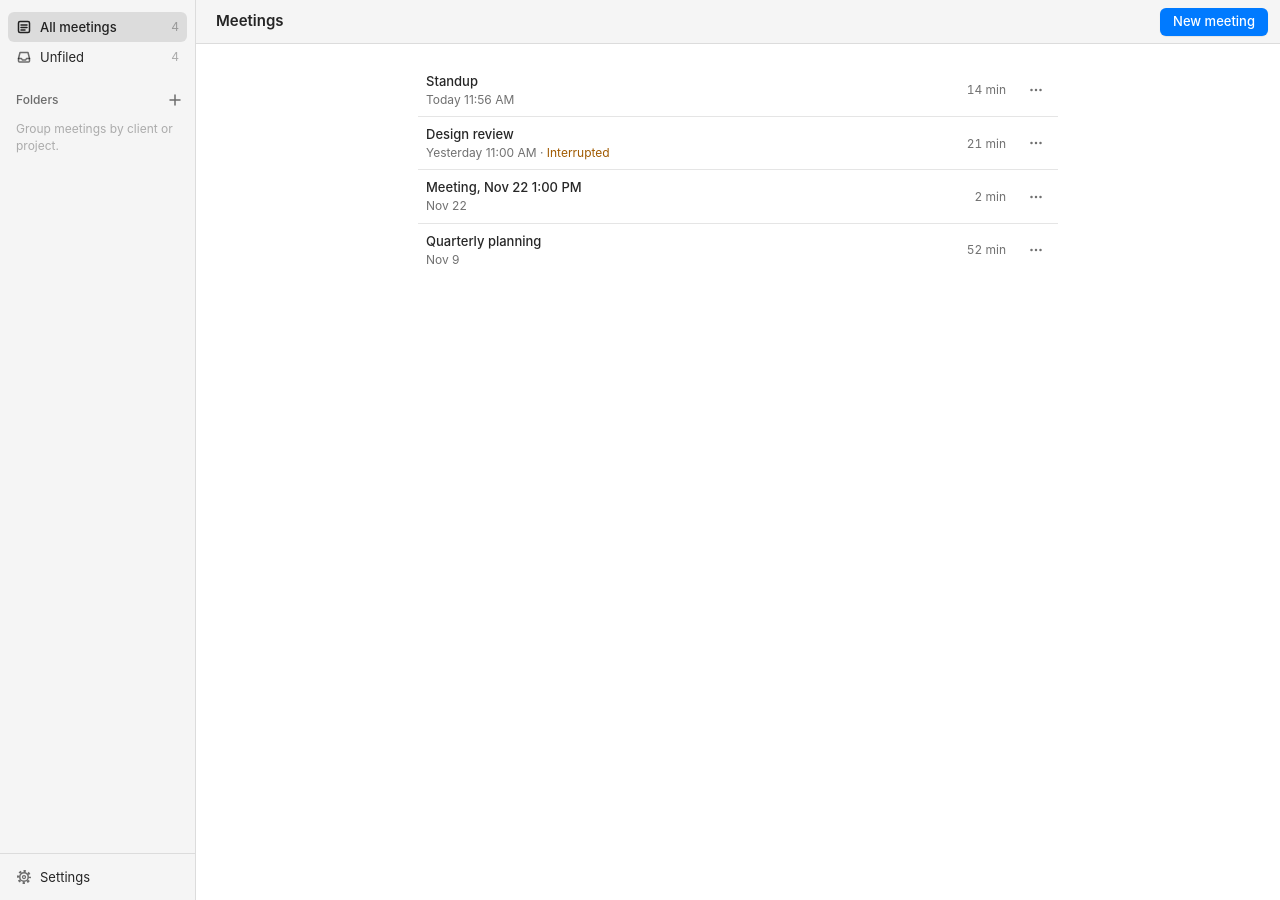
Test case: on the live meeting there is no link to it; elsewhere there is
This screenshot has width=1280, height=900.
Click the button "New meeting": (1214, 22) [1160,8,1268,36]
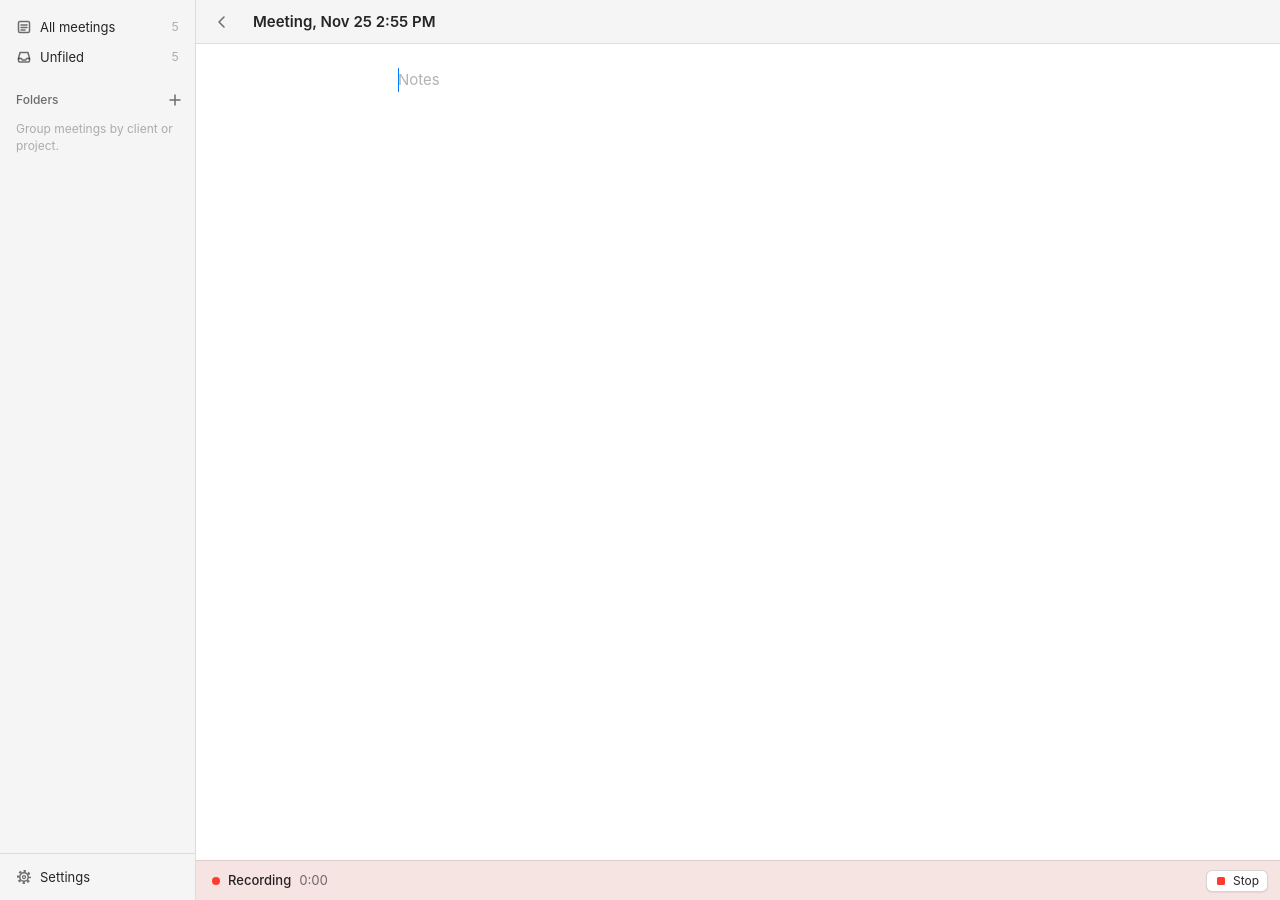
Expected: the button "Open meeting" is not shown
Click the button named "Back": (222, 22) [208,8,236,36]
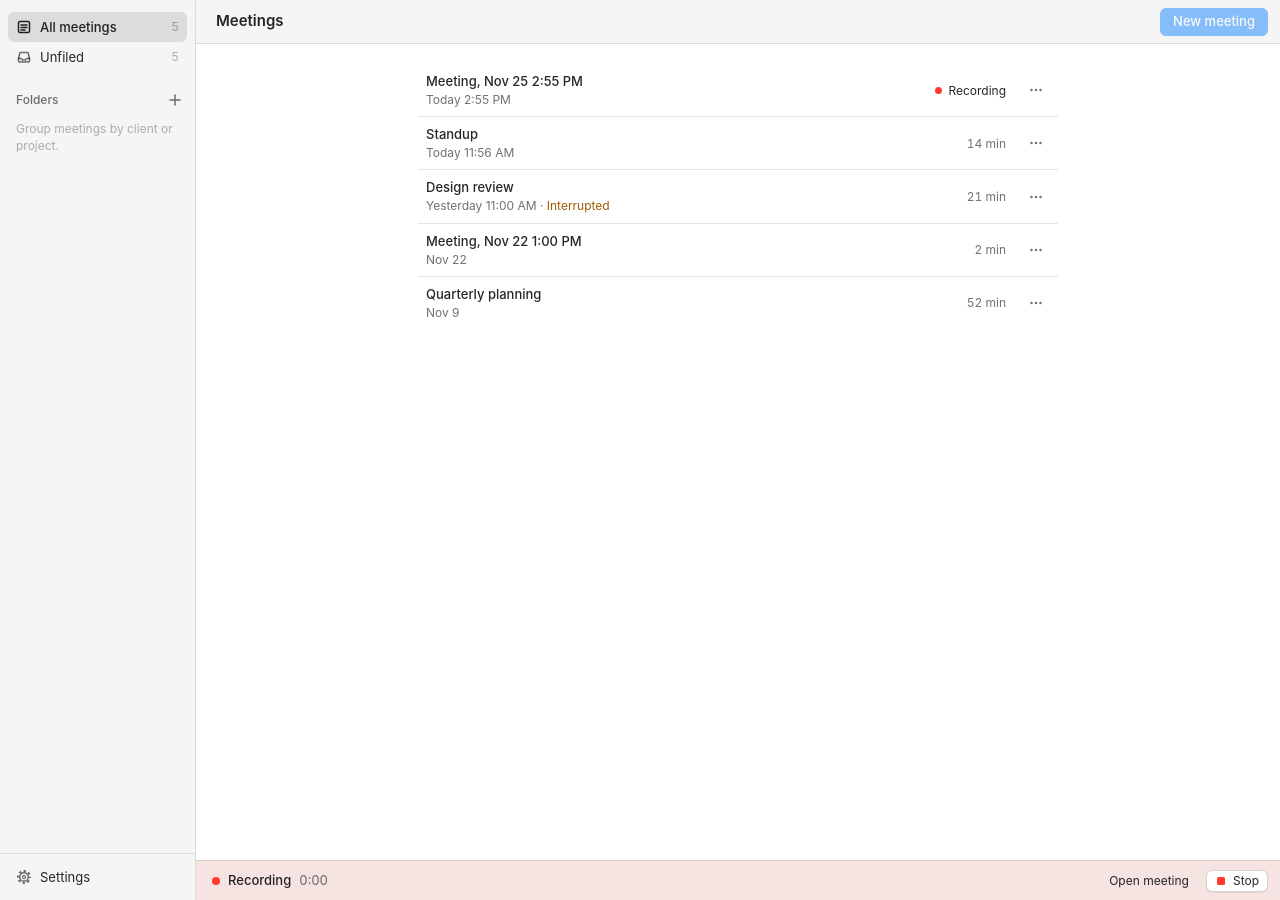
Now the element "Recording" is shown, box [196,860,1279,899]
Now the heading "Meetings" is shown, box [216,12,284,31]
Now the button "Open meeting" is shown, box [1100,870,1198,892]
Click the button "Settings": (98, 877) [8,862,187,892]
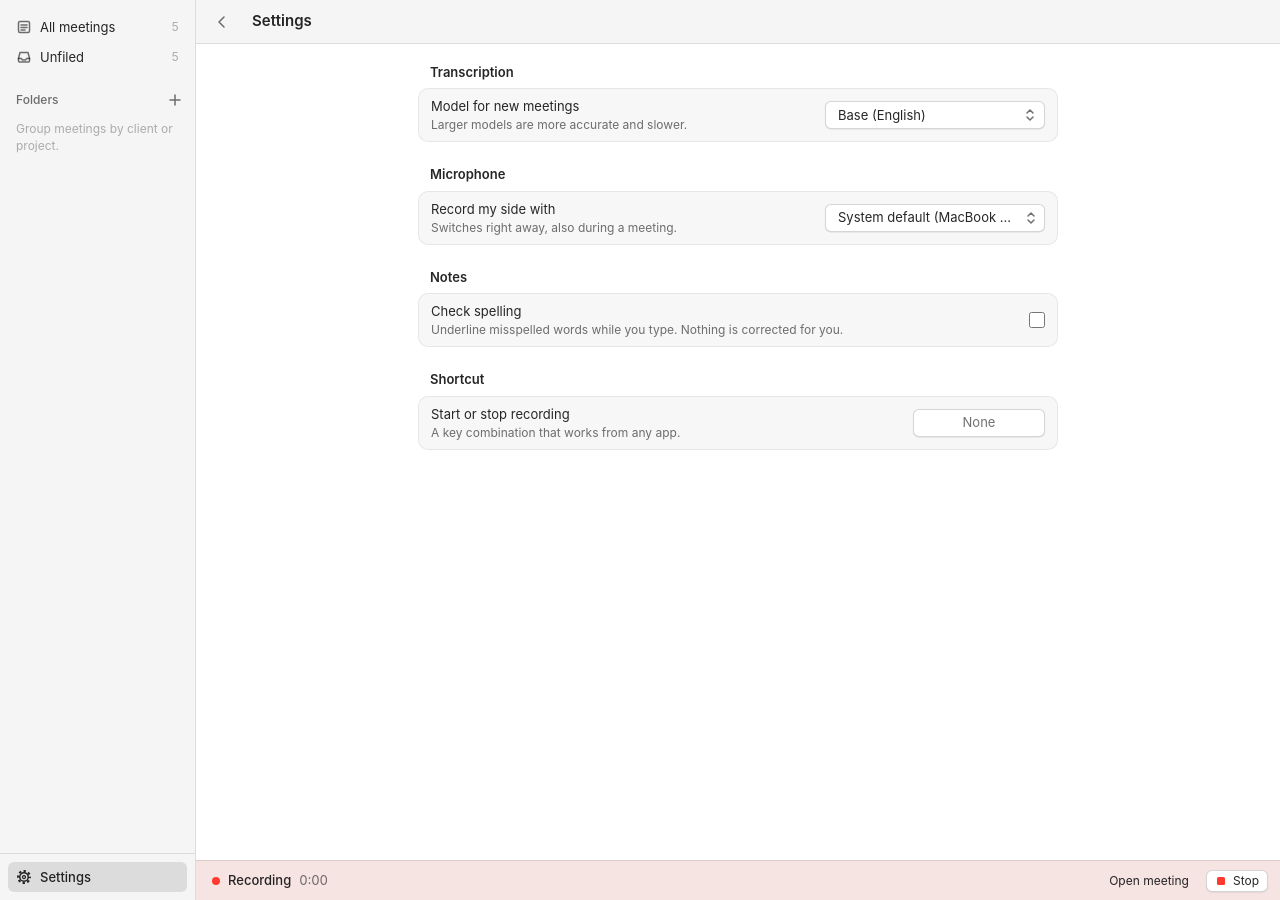
Now the element "Recording" is shown, box [196,860,1279,899]
Now the heading "Settings" is shown, box [252,12,312,31]
Click the button "Open meeting": (1149, 880) [1100,870,1198,892]
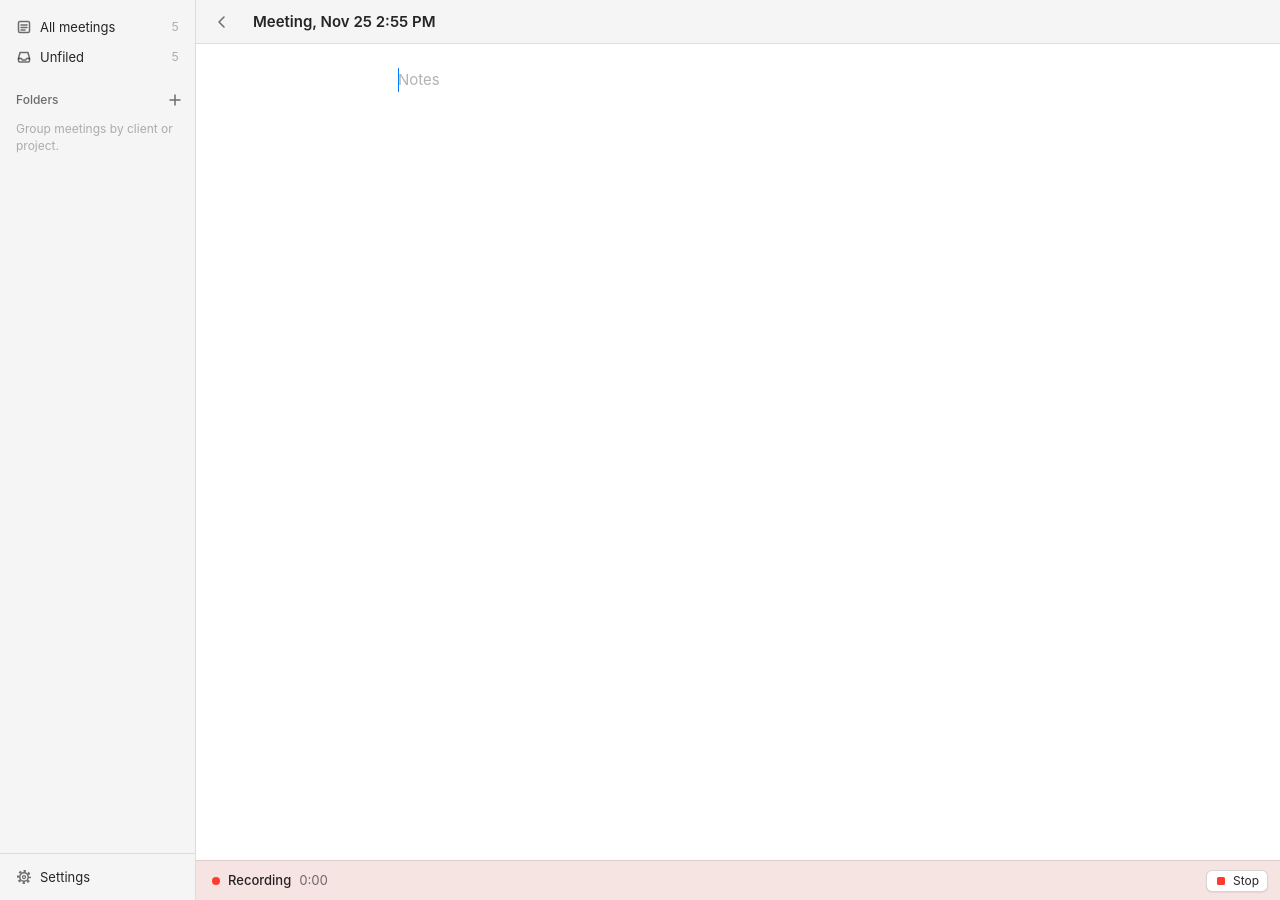
Now the button "Open meeting" is gone
